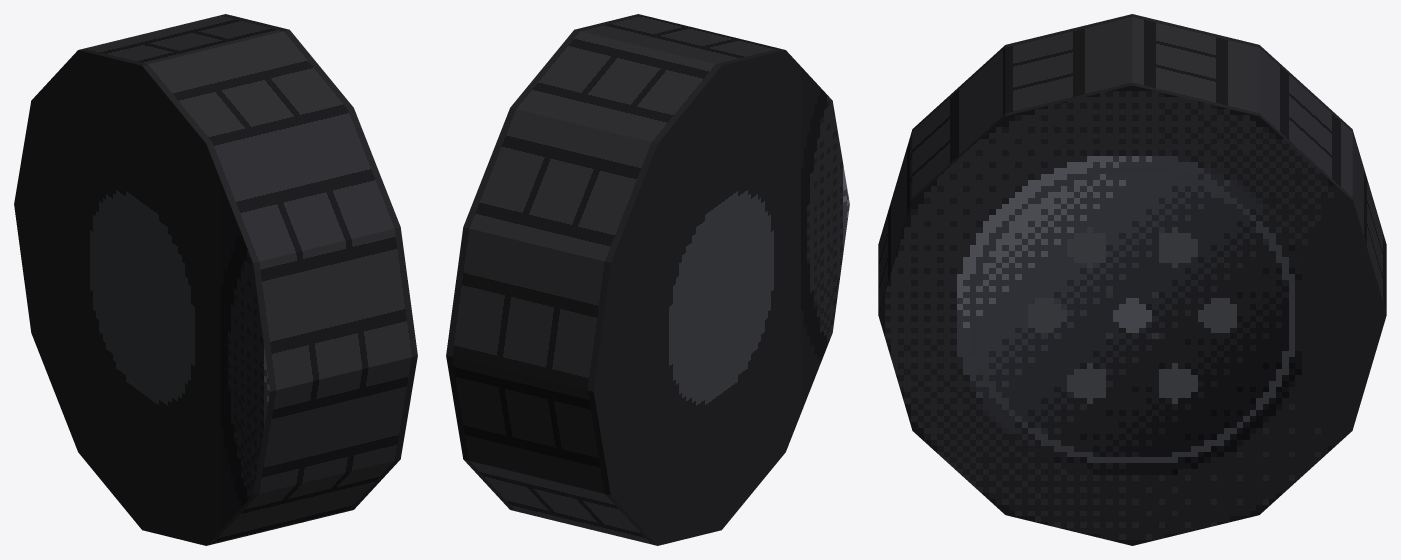
Rendered from wheel_steel.glb.
3 views of the same model, side by side, from view 1: azimuth 30°, elevation 25°; view 2: azimuth 150°, elevation 25°; view 3: azimuth 270°, elevation 25° (orthographic).
Visible parts, largest first — view 1: wheel_steel; view 2: wheel_steel; view 3: wheel_steel.
Boxes of the visible parts, <box> form: wheel_steel: <box>14,14,417,545</box>; wheel_steel: <box>446,14,849,545</box>; wheel_steel: <box>878,14,1386,545</box>.
Size of the model in its own units: 0.205 by 0.6163 by 0.6163.
Materials: 1 (1 with a texture image).
